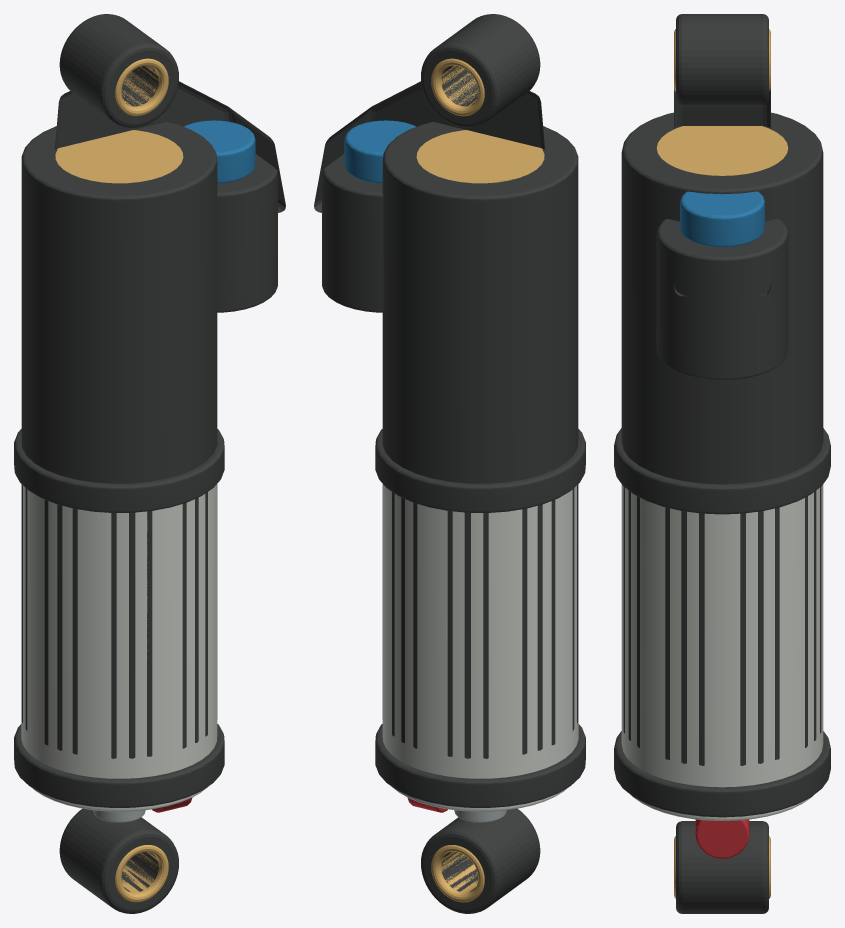
File: fox-float-x2-factory-my26--cdacf087.glb
3 renders of one model, left to right at view 1: azimuth 30°, elevation 25°; view 2: azimuth 150°, elevation 25°; view 3: azimuth 270°, elevation 25°, orthographic. The views are drawn at different scales.
Visible parts, largest first — view 1: fox-float-x2-factory-my26--cdacf087__link, fox-float-x2-factory-my26--cdacf087__frame, fox-float-x2-factory-my26--cdacf087__stanchions, fox-float-x2-factory-my26--cdacf087__adjuster; view 2: fox-float-x2-factory-my26--cdacf087__link, fox-float-x2-factory-my26--cdacf087__frame, fox-float-x2-factory-my26--cdacf087__stanchions, fox-float-x2-factory-my26--cdacf087__adjuster; view 3: fox-float-x2-factory-my26--cdacf087__link, fox-float-x2-factory-my26--cdacf087__frame, fox-float-x2-factory-my26--cdacf087__stanchions, fox-float-x2-factory-my26--cdacf087__adjuster, fox-float-x2-factory-my26--cdacf087__rebound.
Part boxes in pixels (box(x1,y1,x2,y2)): fox-float-x2-factory-my26--cdacf087__link: box(14, 14, 285, 913); fox-float-x2-factory-my26--cdacf087__frame: box(21, 484, 217, 811); fox-float-x2-factory-my26--cdacf087__stanchions: box(55, 58, 183, 902); fox-float-x2-factory-my26--cdacf087__adjuster: box(184, 120, 255, 183); fox-float-x2-factory-my26--cdacf087__link: box(314, 14, 585, 913); fox-float-x2-factory-my26--cdacf087__frame: box(382, 484, 578, 811); fox-float-x2-factory-my26--cdacf087__stanchions: box(416, 58, 544, 902); fox-float-x2-factory-my26--cdacf087__adjuster: box(344, 120, 415, 183); fox-float-x2-factory-my26--cdacf087__link: box(614, 14, 830, 913); fox-float-x2-factory-my26--cdacf087__frame: box(621, 484, 823, 820); fox-float-x2-factory-my26--cdacf087__stanchions: box(656, 29, 788, 898); fox-float-x2-factory-my26--cdacf087__adjuster: box(680, 191, 764, 247); fox-float-x2-factory-my26--cdacf087__rebound: box(695, 819, 749, 858).
Size of the model in its own units: 0.074 by 0.254 by 0.056.
